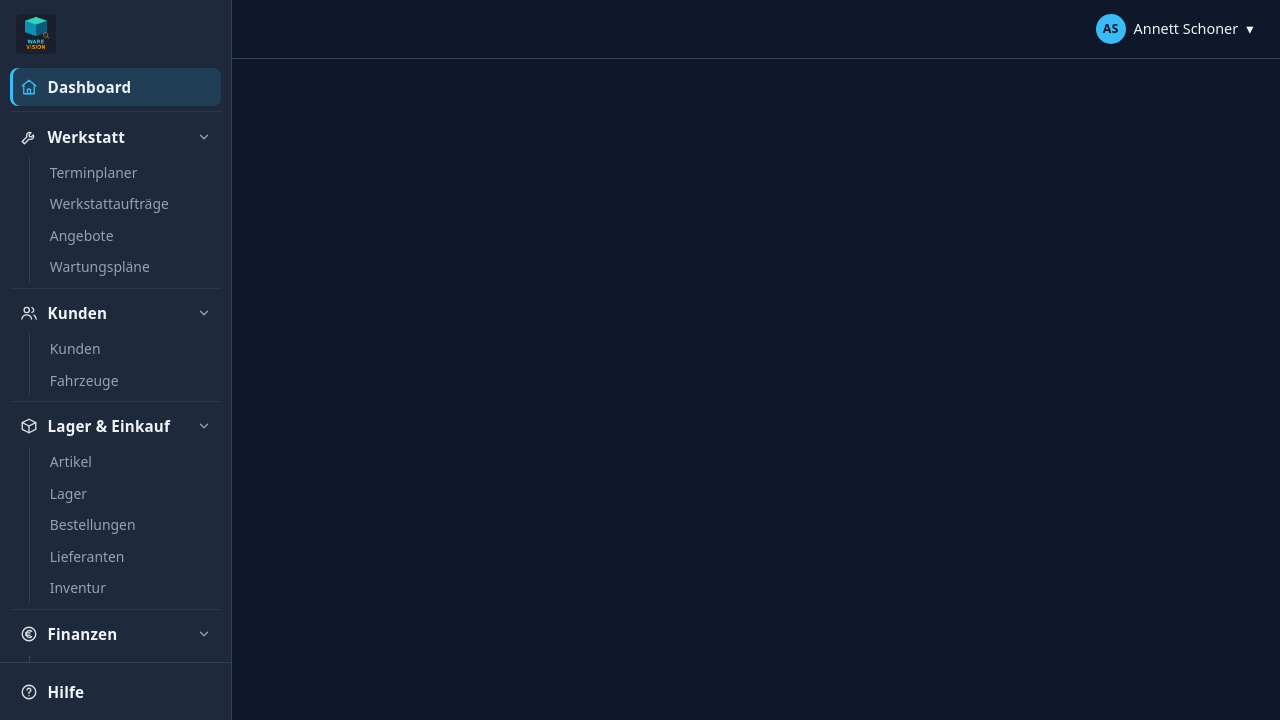
Test case: Konto-Menü › öffnet sich per Klick und schließt mit Escape
Check: the text "Abmelden" is not shown
Click the button "AS Annett Schoner ▾" at (1177, 29), box [1090,8,1264,50]
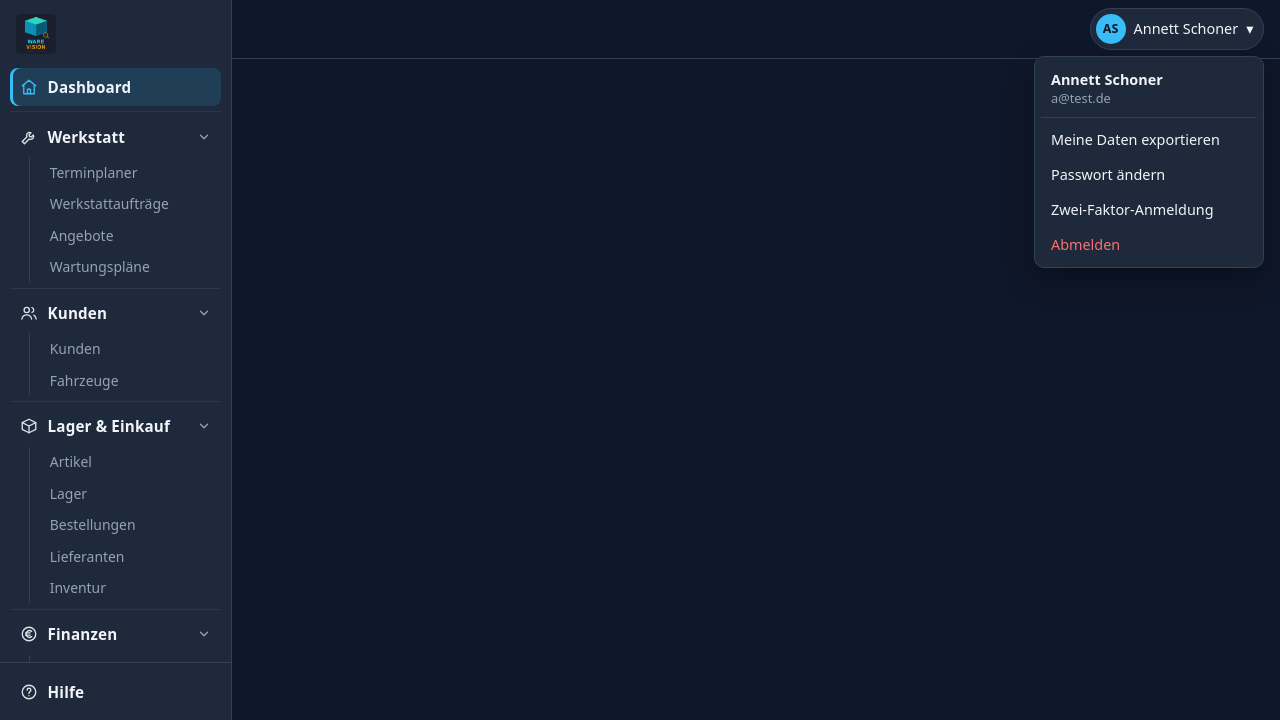
Check: the menu shows "a@test.de", box [1051,89,1111,107]
Check: the menu item "Passwort ändern" is shown, box [1041,157,1257,192]
Press Escape
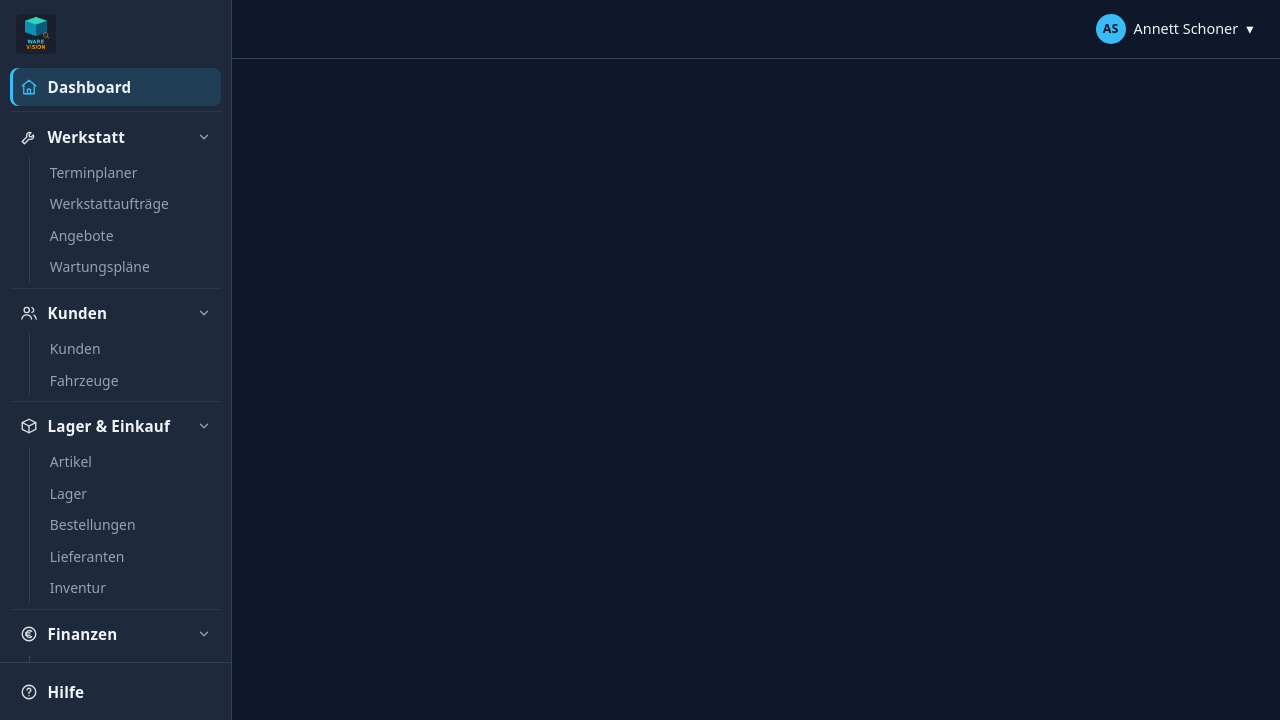
Check: the menu is gone
